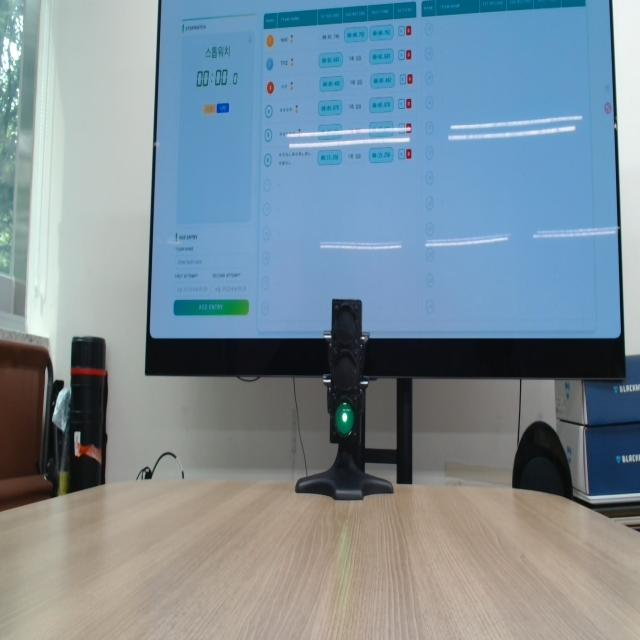green_light: (335, 402, 355, 437)
